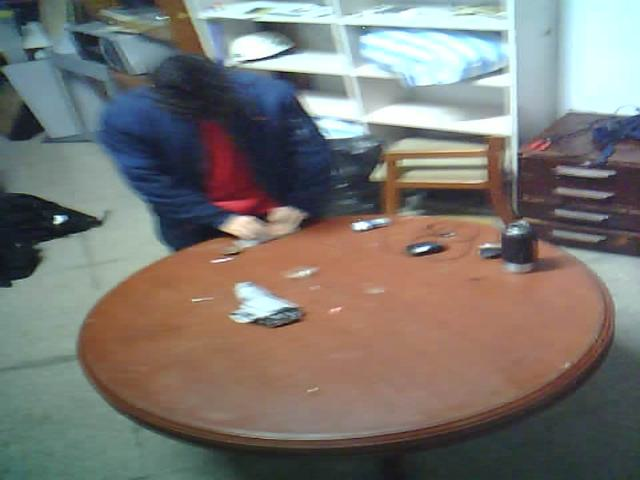person: (98, 42, 347, 260)
